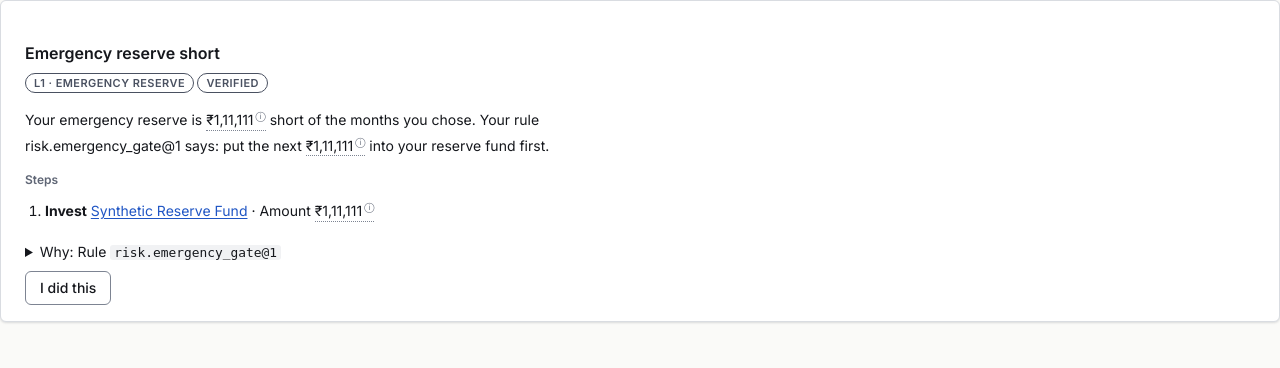
Test: ActionCard › 'I did this' asks to confirm, then POSTs the card and snapshot once and shows the logged state
Click the button "I did this" at (68, 288), box [25,271,111,305]
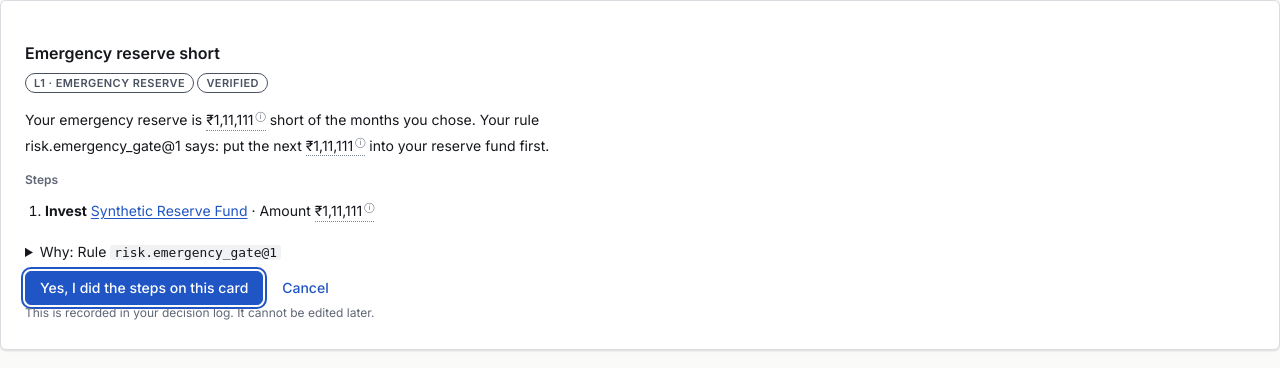
Click the button "Yes, I did the steps on this card" at (144, 288), box [25,271,263,305]
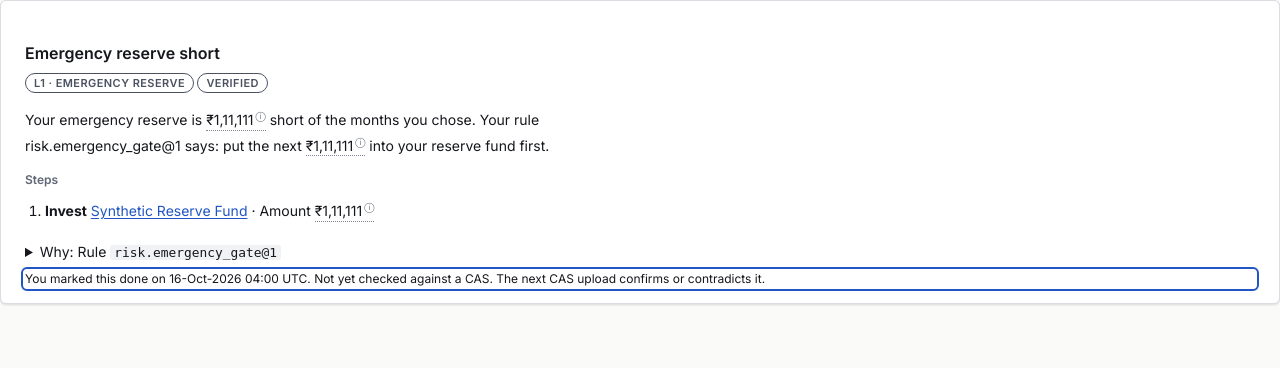
Check: the button "I did this" is not shown
Check: the text "You marked this done on 16-Oct-2026 04:00 UTC" is shown, box [25,271,765,286]
Check: the text "Not yet checked against a CAS" is shown, box [314,271,765,286]
